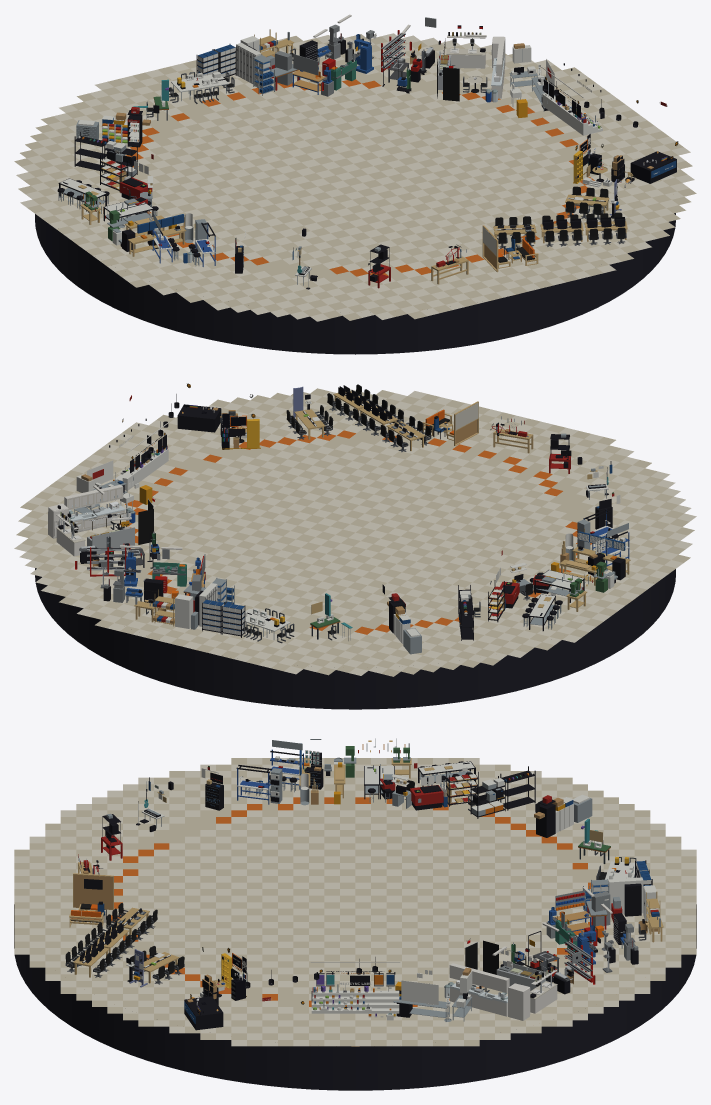
Rendered from arena_unfold.glb.
The picture shows the model from 3 angles, top to bottom: view 1: azimuth 30°, elevation 25°; view 2: azimuth 150°, elevation 25°; view 3: azimuth 270°, elevation 25°; orthographic projection. The views are drawn at different scales.
Visible parts, largest first — view 1: unfold_floor, unfold_a, unfold_c, unfold_b; view 2: unfold_floor, unfold_a, unfold_c, unfold_b; view 3: unfold_floor, unfold_a, unfold_c, unfold_b.
Part boxes in pixels (<box>): unfold_floor: <box>14,33,696,321</box>; unfold_a: <box>35,14,675,354</box>; unfold_c: <box>76,25,636,289</box>; unfold_b: <box>74,17,678,288</box>; unfold_floor: <box>14,388,696,676</box>; unfold_a: <box>35,386,675,709</box>; unfold_c: <box>48,401,630,654</box>; unfold_b: <box>71,383,629,643</box>; unfold_floor: <box>14,758,696,1046</box>; unfold_a: <box>14,761,696,1090</box>; unfold_c: <box>69,738,663,1020</box>; unfold_b: <box>65,740,636,1030</box>.
Size of the model in its own units: 112 by 17 by 112.
